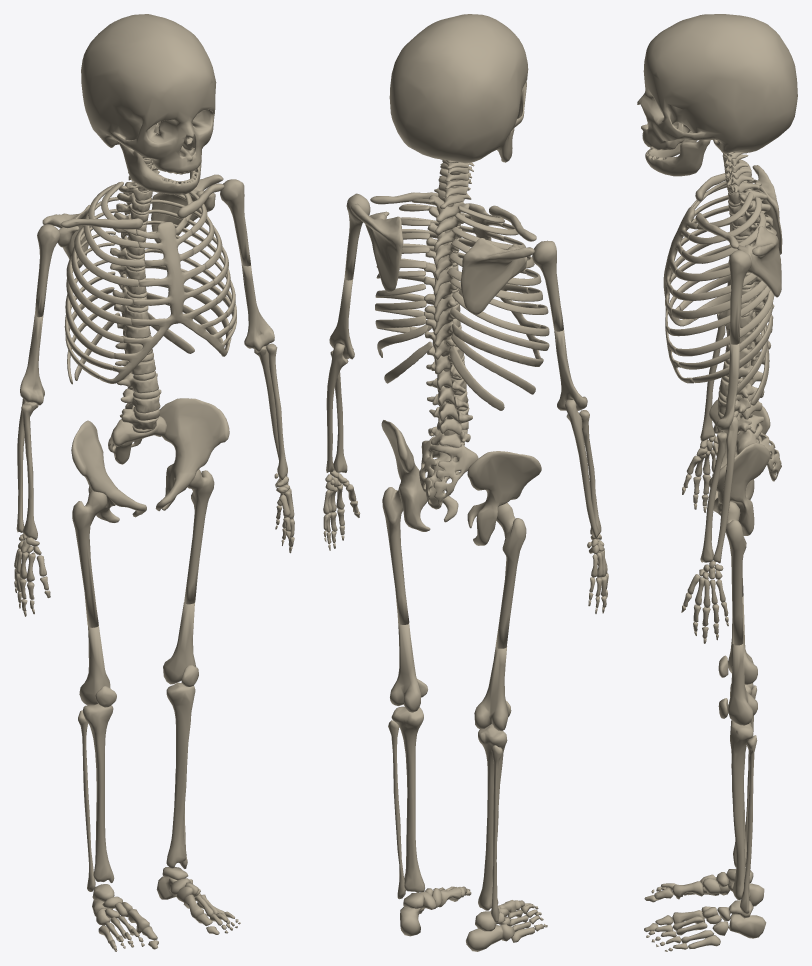
Rendered from pediatric_child_5y_female.skeletal.LOD1.glb.
3 views of the same model, side by side, from view 1: azimuth 30°, elevation 25°; view 2: azimuth 150°, elevation 25°; view 3: azimuth 270°, elevation 25° (orthographic).
Parts seen in each view (by area): view 1: PEDIATRIC.CHILD_5Y.FEMALE.SKELETAL.CRANIUM_CORTICAL, PEDIATRIC.CHILD_5Y.FEMALE.SKELETAL.RIBS_CORTICAL, PEDIATRIC.CHILD_5Y.FEMALE.SKELETAL.PELVIS_CORTICAL, PEDIATRIC.CHILD_5Y.FEMALE.SKELETAL.CARTILAGE_TRUNK, PEDIATRIC.CHILD_5Y.FEMALE.SKELETAL.TIBIAE_CORTICAL, PEDIATRIC.CHILD_5Y.FEMALE.SKELETAL.ANKLES_AND_FOOT_CORTICAL, PEDIATRIC.CHILD_5Y.FEMALE.SKELETAL.FEMORA_UPPER_CORTICAL, PEDIATRIC.CHILD_5Y.FEMALE.SKELETAL.THORACIC_SPINE_CORTICAL, PEDIATRIC.CHILD_5Y.FEMALE.SKELETAL.FEMORA_LOWER_CORTICAL, PEDIATRIC.CHILD_5Y.FEMALE.SKELETAL.WRISTS_AND_HAND_BONES_COR, PEDIATRIC.CHILD_5Y.FEMALE.SKELETAL.HUMERI_LOWER_CORTICAL, PEDIATRIC.CHILD_5Y.FEMALE.SKELETAL.HUMERI_UPPER_CORTICAL (+9 smaller); view 2: PEDIATRIC.CHILD_5Y.FEMALE.SKELETAL.CRANIUM_CORTICAL, PEDIATRIC.CHILD_5Y.FEMALE.SKELETAL.RIBS_CORTICAL, PEDIATRIC.CHILD_5Y.FEMALE.SKELETAL.PELVIS_CORTICAL, PEDIATRIC.CHILD_5Y.FEMALE.SKELETAL.SCAPULAE_CORTICAL, PEDIATRIC.CHILD_5Y.FEMALE.SKELETAL.TIBIAE_CORTICAL, PEDIATRIC.CHILD_5Y.FEMALE.SKELETAL.THORACIC_SPINE_CORTICAL, PEDIATRIC.CHILD_5Y.FEMALE.SKELETAL.ANKLES_AND_FOOT_CORTICAL, PEDIATRIC.CHILD_5Y.FEMALE.SKELETAL.FEMORA_UPPER_CORTICAL, PEDIATRIC.CHILD_5Y.FEMALE.SKELETAL.FEMORA_LOWER_CORTICAL, PEDIATRIC.CHILD_5Y.FEMALE.SKELETAL.WRISTS_AND_HAND_BONES_COR, PEDIATRIC.CHILD_5Y.FEMALE.SKELETAL.LUMBAR_SPINE_CORTICAL, PEDIATRIC.CHILD_5Y.FEMALE.SKELETAL.SACRUM_CORTICAL (+8 smaller); view 3: PEDIATRIC.CHILD_5Y.FEMALE.SKELETAL.CRANIUM_CORTICAL, PEDIATRIC.CHILD_5Y.FEMALE.SKELETAL.RIBS_CORTICAL, PEDIATRIC.CHILD_5Y.FEMALE.SKELETAL.ANKLES_AND_FOOT_CORTICAL, PEDIATRIC.CHILD_5Y.FEMALE.SKELETAL.WRISTS_AND_HAND_BONES_COR, PEDIATRIC.CHILD_5Y.FEMALE.SKELETAL.PELVIS_CORTICAL, PEDIATRIC.CHILD_5Y.FEMALE.SKELETAL.SCAPULAE_CORTICAL, PEDIATRIC.CHILD_5Y.FEMALE.SKELETAL.TIBIAE_CORTICAL, PEDIATRIC.CHILD_5Y.FEMALE.SKELETAL.CARTILAGE_TRUNK, PEDIATRIC.CHILD_5Y.FEMALE.SKELETAL.FEMORA_LOWER_CORTICAL, PEDIATRIC.CHILD_5Y.FEMALE.SKELETAL.RADII_CORTICAL, PEDIATRIC.CHILD_5Y.FEMALE.SKELETAL.FEMORA_UPPER_CORTICAL, PEDIATRIC.CHILD_5Y.FEMALE.SKELETAL.LUMBAR_SPINE_CORTICAL (+10 smaller).
Part boxes in pixels (bbox=[...]): PEDIATRIC.CHILD_5Y.FEMALE.SKELETAL.CRANIUM_CORTICAL: bbox=[81, 14, 216, 174]; PEDIATRIC.CHILD_5Y.FEMALE.SKELETAL.RIBS_CORTICAL: bbox=[64, 181, 236, 384]; PEDIATRIC.CHILD_5Y.FEMALE.SKELETAL.PELVIS_CORTICAL: bbox=[71, 398, 229, 522]; PEDIATRIC.CHILD_5Y.FEMALE.SKELETAL.CARTILAGE_TRUNK: bbox=[98, 158, 229, 432]; PEDIATRIC.CHILD_5Y.FEMALE.SKELETAL.TIBIAE_CORTICAL: bbox=[82, 682, 195, 882]; PEDIATRIC.CHILD_5Y.FEMALE.SKELETAL.ANKLES_AND_FOOT_CORTICAL: bbox=[92, 867, 240, 951]; PEDIATRIC.CHILD_5Y.FEMALE.SKELETAL.FEMORA_UPPER_CORTICAL: bbox=[72, 469, 214, 627]; PEDIATRIC.CHILD_5Y.FEMALE.SKELETAL.THORACIC_SPINE_CORTICAL: bbox=[110, 182, 152, 338]; PEDIATRIC.CHILD_5Y.FEMALE.SKELETAL.FEMORA_LOWER_CORTICAL: bbox=[79, 603, 196, 705]; PEDIATRIC.CHILD_5Y.FEMALE.SKELETAL.WRISTS_AND_HAND_BONES_COR: bbox=[14, 473, 294, 616]; PEDIATRIC.CHILD_5Y.FEMALE.SKELETAL.HUMERI_LOWER_CORTICAL: bbox=[20, 265, 274, 405]; PEDIATRIC.CHILD_5Y.FEMALE.SKELETAL.HUMERI_UPPER_CORTICAL: bbox=[35, 179, 250, 317]; PEDIATRIC.CHILD_5Y.FEMALE.SKELETAL.CRANIUM_CORTICAL: bbox=[389, 14, 528, 163]; PEDIATRIC.CHILD_5Y.FEMALE.SKELETAL.RIBS_CORTICAL: bbox=[375, 198, 549, 410]; PEDIATRIC.CHILD_5Y.FEMALE.SKELETAL.PELVIS_CORTICAL: bbox=[381, 420, 541, 545]; PEDIATRIC.CHILD_5Y.FEMALE.SKELETAL.SCAPULAE_CORTICAL: bbox=[351, 204, 534, 314]; PEDIATRIC.CHILD_5Y.FEMALE.SKELETAL.TIBIAE_CORTICAL: bbox=[391, 706, 507, 910]; PEDIATRIC.CHILD_5Y.FEMALE.SKELETAL.THORACIC_SPINE_CORTICAL: bbox=[423, 195, 469, 374]; PEDIATRIC.CHILD_5Y.FEMALE.SKELETAL.ANKLES_AND_FOOT_CORTICAL: bbox=[400, 886, 547, 951]; PEDIATRIC.CHILD_5Y.FEMALE.SKELETAL.FEMORA_UPPER_CORTICAL: bbox=[382, 482, 526, 648]; PEDIATRIC.CHILD_5Y.FEMALE.SKELETAL.FEMORA_LOWER_CORTICAL: bbox=[390, 622, 507, 730]; PEDIATRIC.CHILD_5Y.FEMALE.SKELETAL.WRISTS_AND_HAND_BONES_COR: bbox=[323, 470, 608, 613]; PEDIATRIC.CHILD_5Y.FEMALE.SKELETAL.LUMBAR_SPINE_CORTICAL: bbox=[426, 360, 472, 447]; PEDIATRIC.CHILD_5Y.FEMALE.SKELETAL.SACRUM_CORTICAL: bbox=[419, 436, 478, 509]; PEDIATRIC.CHILD_5Y.FEMALE.SKELETAL.CRANIUM_CORTICAL: bbox=[637, 14, 797, 154]; PEDIATRIC.CHILD_5Y.FEMALE.SKELETAL.RIBS_CORTICAL: bbox=[669, 179, 776, 405]; PEDIATRIC.CHILD_5Y.FEMALE.SKELETAL.ANKLES_AND_FOOT_CORTICAL: bbox=[644, 869, 766, 951]; PEDIATRIC.CHILD_5Y.FEMALE.SKELETAL.WRISTS_AND_HAND_BONES_COR: bbox=[681, 435, 728, 643]; PEDIATRIC.CHILD_5Y.FEMALE.SKELETAL.PELVIS_CORTICAL: bbox=[708, 399, 770, 535]; PEDIATRIC.CHILD_5Y.FEMALE.SKELETAL.SCAPULAE_CORTICAL: bbox=[737, 165, 782, 297]; PEDIATRIC.CHILD_5Y.FEMALE.SKELETAL.TIBIAE_CORTICAL: bbox=[730, 683, 753, 899]; PEDIATRIC.CHILD_5Y.FEMALE.SKELETAL.CARTILAGE_TRUNK: bbox=[663, 155, 751, 434]; PEDIATRIC.CHILD_5Y.FEMALE.SKELETAL.FEMORA_LOWER_CORTICAL: bbox=[727, 596, 757, 725]; PEDIATRIC.CHILD_5Y.FEMALE.SKELETAL.RADII_CORTICAL: bbox=[700, 313, 727, 562]; PEDIATRIC.CHILD_5Y.FEMALE.SKELETAL.FEMORA_UPPER_CORTICAL: bbox=[725, 501, 746, 645]; PEDIATRIC.CHILD_5Y.FEMALE.SKELETAL.LUMBAR_SPINE_CORTICAL: bbox=[717, 341, 764, 433].
Bounding box in the file's own units: 0.3465 × 1.09 × 0.1755.
